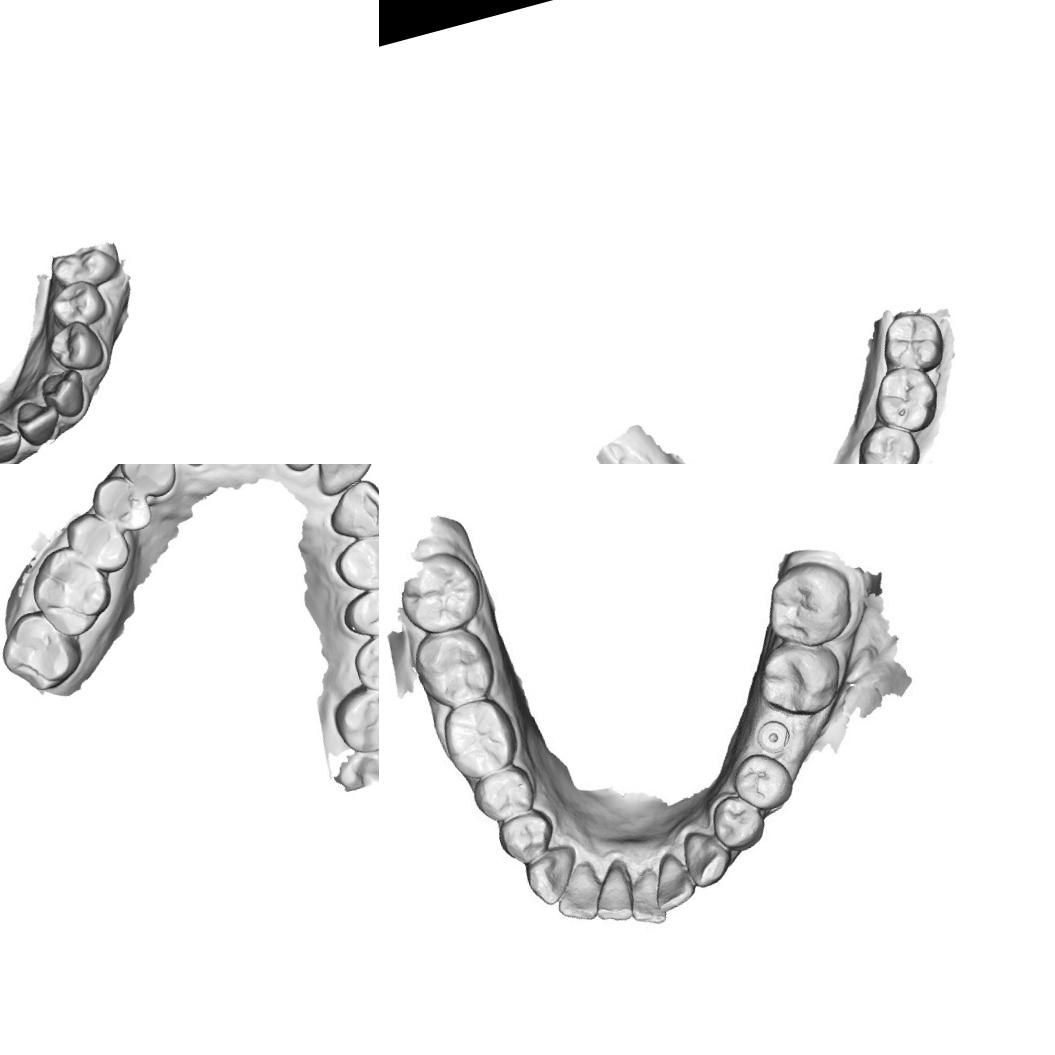canine: (518, 838, 586, 910), (318, 474, 379, 550), (676, 822, 735, 892), (36, 363, 93, 423), (111, 464, 185, 506)
implant: (752, 714, 797, 758)
incisor: (542, 860, 610, 928), (9, 390, 68, 452), (584, 862, 637, 930), (644, 849, 698, 915), (618, 867, 670, 933), (303, 464, 377, 499), (0, 406, 26, 464)
molar: (753, 552, 861, 656), (20, 534, 120, 644), (404, 618, 502, 716), (746, 630, 848, 724), (0, 602, 91, 703), (394, 551, 487, 641), (434, 692, 524, 783), (865, 358, 946, 441), (870, 303, 950, 381), (324, 675, 379, 762), (45, 240, 124, 298), (345, 627, 379, 698)
premolar: (58, 502, 134, 581), (84, 465, 158, 542), (724, 748, 796, 816), (467, 764, 540, 830), (491, 804, 563, 870), (42, 313, 110, 380), (705, 786, 768, 857), (849, 415, 925, 464), (327, 526, 379, 597), (46, 275, 109, 332), (336, 577, 379, 644)
